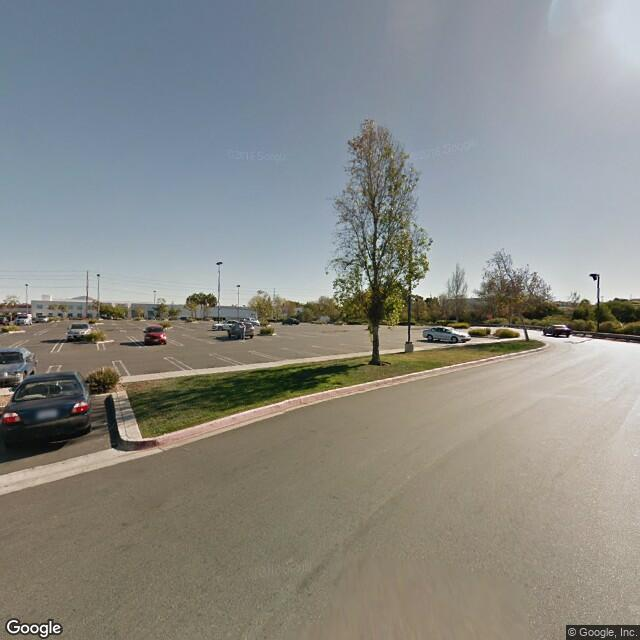litter: (103, 420, 109, 429)
